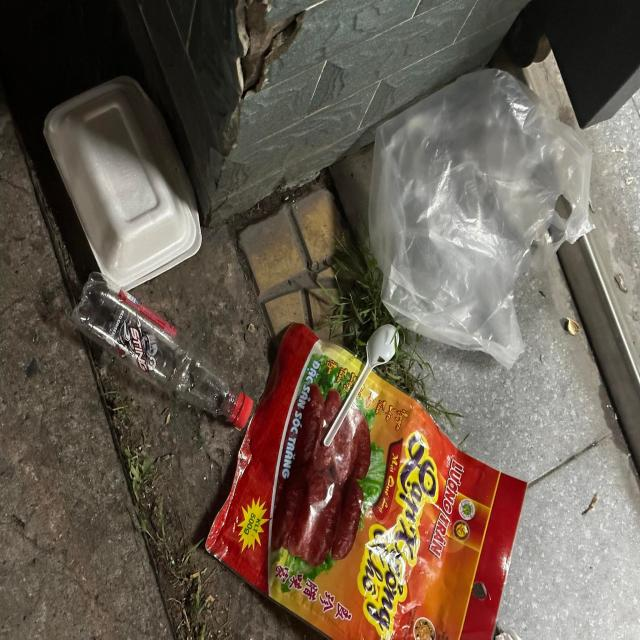bag: (367, 66, 598, 372)
bottle: (72, 270, 254, 429)
foam box: (41, 75, 202, 294)
plastic utensil: (324, 321, 400, 447)
snack package: (206, 324, 527, 640)
